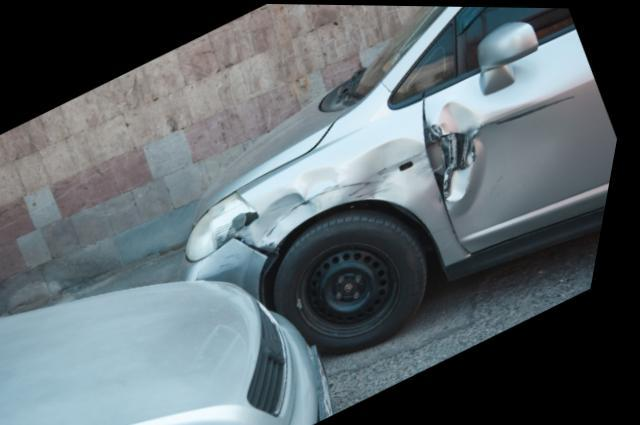crack: (459, 130, 470, 170)
dent: (255, 135, 440, 244), (437, 62, 545, 209)
lamp broken: (193, 189, 268, 260)
